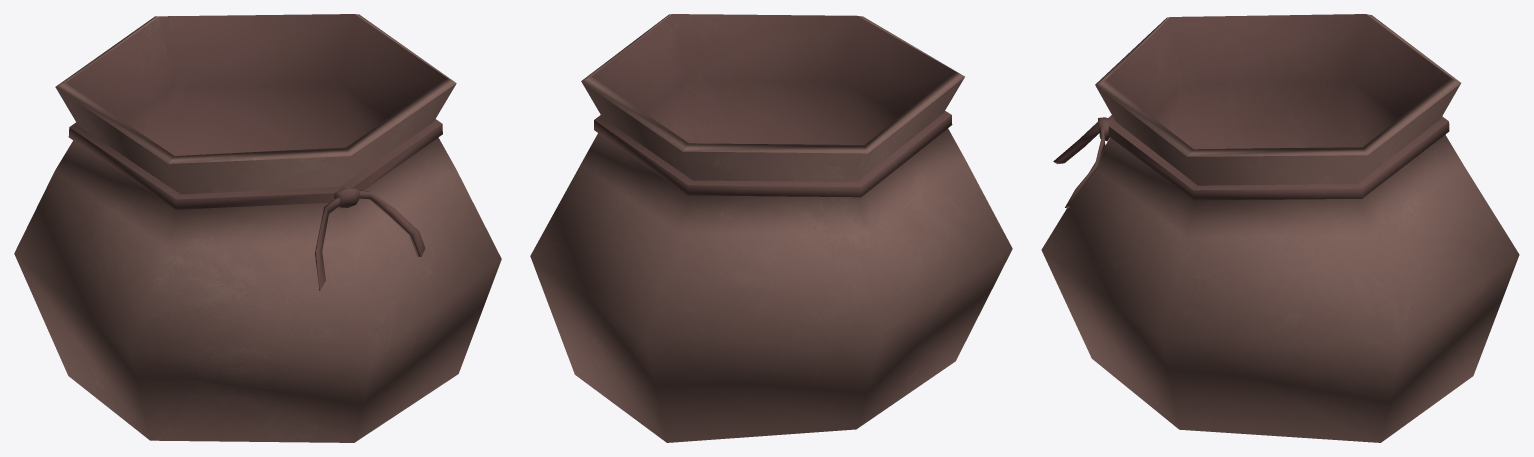
File: CoinDust x60.fbx
3 renders of one model, left to right at view 1: azimuth 30°, elevation 25°; view 2: azimuth 150°, elevation 25°; view 3: azimuth 270°, elevation 25°, orthographic. The views are drawn at different scales.
Parts seen in each view (by area): view 1: Coin Dust x60; view 2: Coin Dust x60; view 3: Coin Dust x60.
Boxes of the visible parts, x1=… form: Coin Dust x60: x1=14, y1=14, x2=501, y2=442; Coin Dust x60: x1=530, y1=14, x2=1012, y2=442; Coin Dust x60: x1=1041, y1=14, x2=1519, y2=442.
Bounding box in the file's own units: 228 × 183 × 263.
